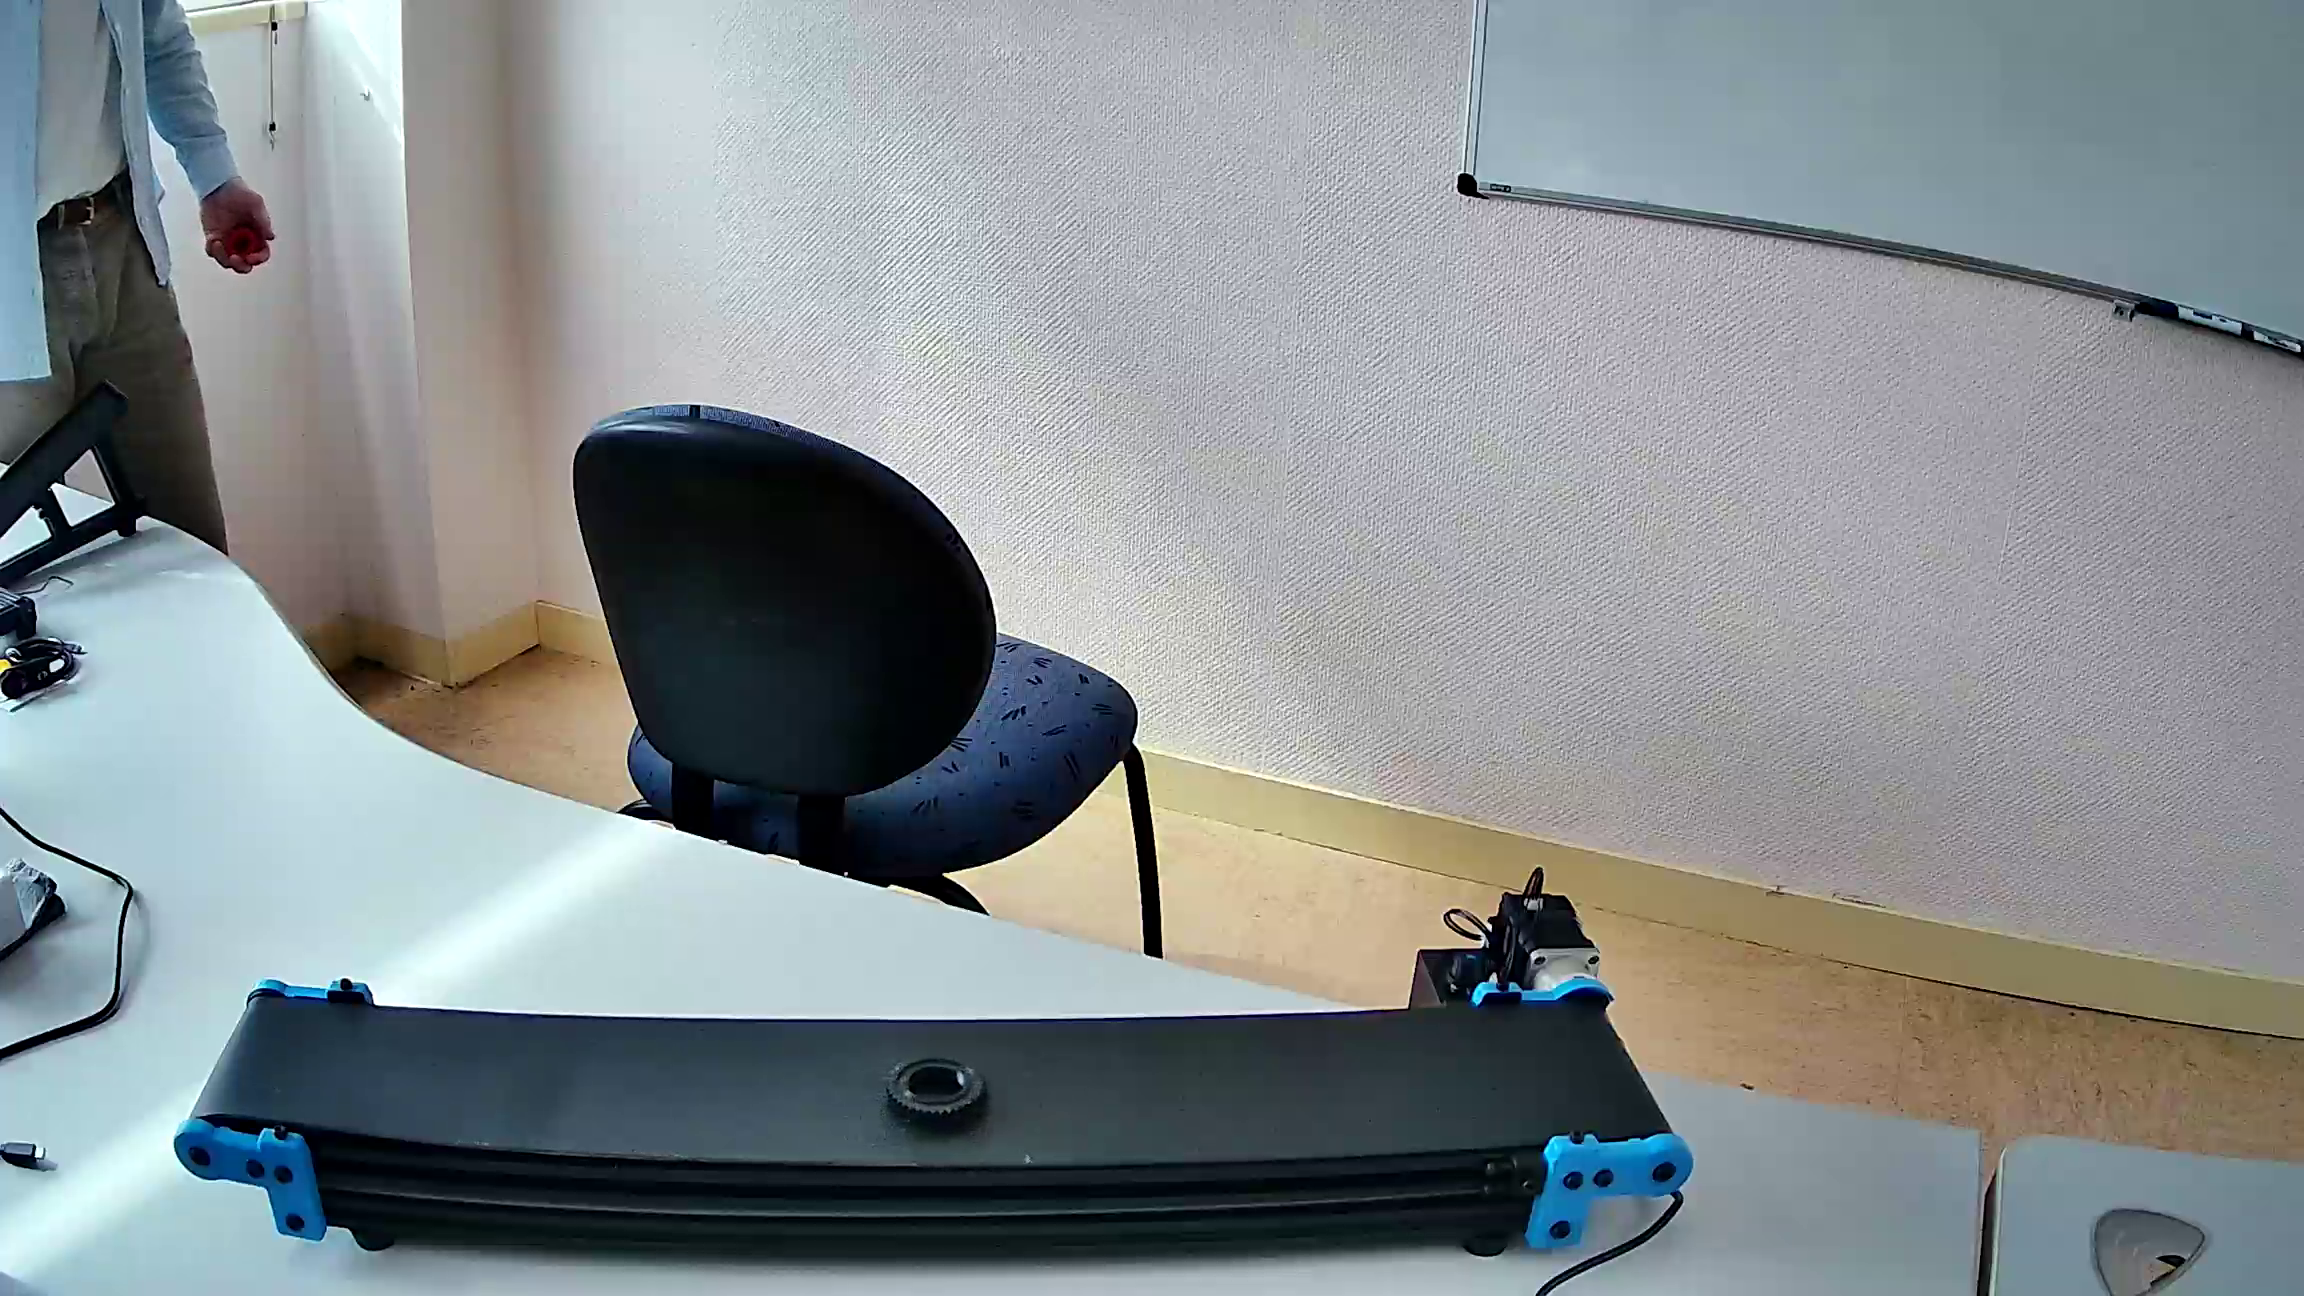good: (888, 1052, 986, 1124)
